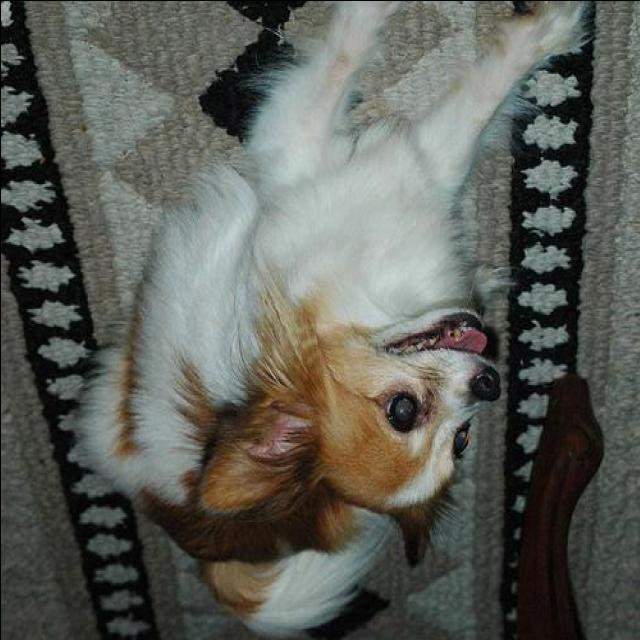papillon: (73, 3, 591, 637)
